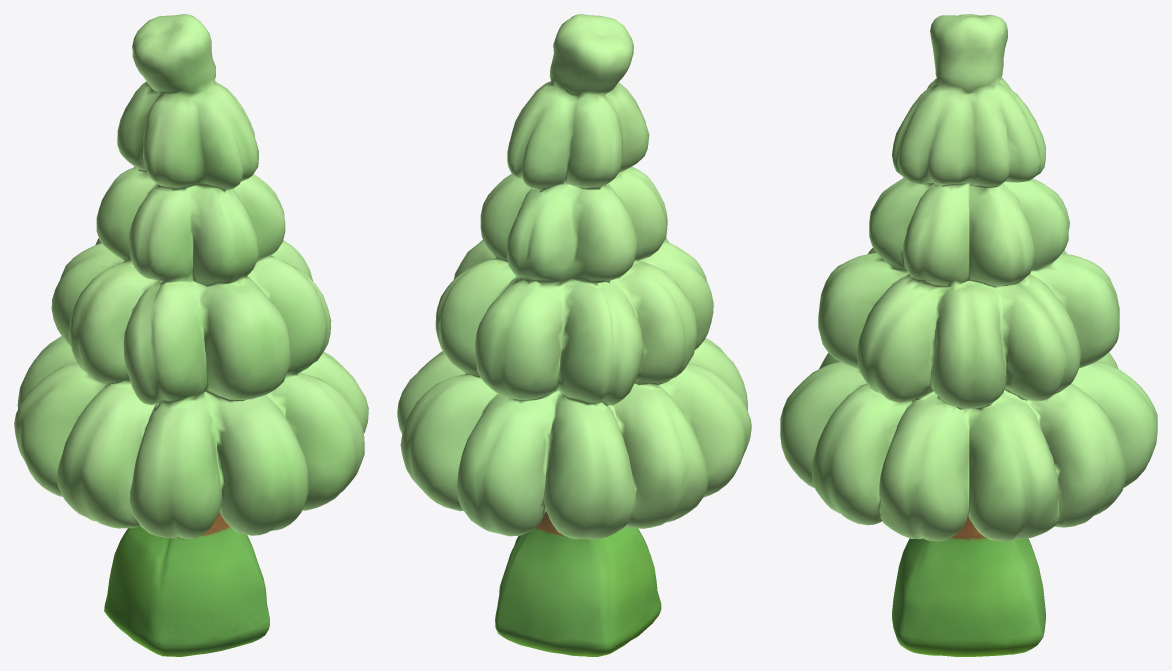
File: soft_pine_small.glb
The picture shows the model from 3 angles, left to right: view 1: azimuth 30°, elevation 25°; view 2: azimuth 150°, elevation 25°; view 3: azimuth 270°, elevation 25°; orthographic projection.
Size of the model in its own units: 0.9511 by 1.91 by 1.05.
Materials: 1 (1 with a texture image).
